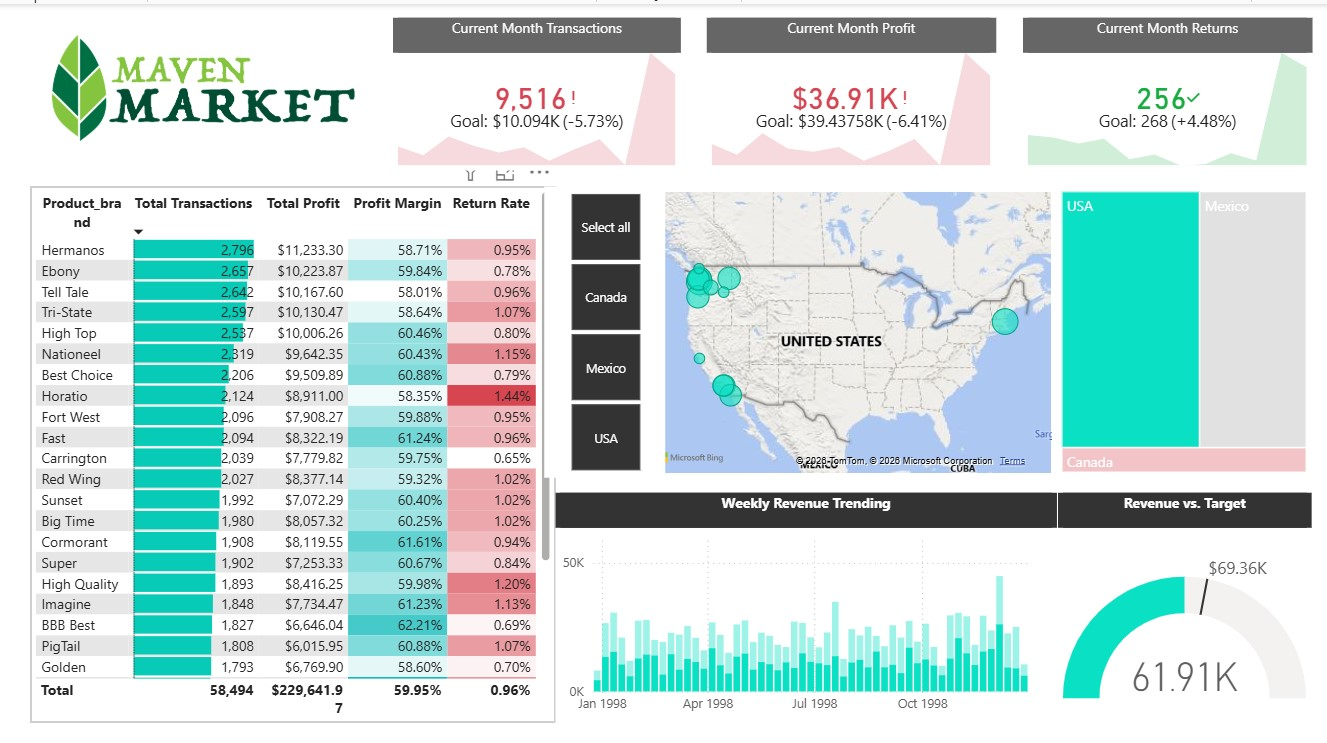

The page's visual inventory and layout, read from the dashboard file:
{"tool":"powerbi","page":{"name":"Topline Performance","canvas":[1280,720],"ordinal":0},"visuals":[{"type":"image","box":[43.1,13.2,304.4,134.2],"z":0},{"type":"pivotTable","fields":{"Rows":["Products.product_brand"],"Values":["Transaction_Data.Total Transactions","Transaction_Data.Total Profit","Transaction_Data.Profit Margin","Transaction_Data.Return Rate"]},"box":[31.2,175,492.6,514.2],"z":1000},{"type":"kpi","title":"Current Month Transactions","fields":{"Goal":["Transaction_Data.Last Month Transactions"],"Indicator":["Transaction_Data.Total Transactions"],"TrendLine":["Calendar.Start of Month"]},"box":[378.3,12.8,275.9,146.5],"z":2000},{"type":"kpi","title":"Current Month Profit","fields":{"Goal":["Transaction_Data.Last Month Profit"],"Indicator":["Transaction_Data.Total Profit"],"TrendLine":["Calendar.Start of Month"]},"box":[679.8,12.8,277.3,146.5],"z":2001},{"type":"kpi","title":"Current Month Returns","fields":{"Goal":["Return_Data.Last Month Returns"],"Indicator":["Return_Data.Total Returns"],"TrendLine":["Calendar.Start of Month"]},"box":[982.8,12.8,277.3,146.5],"z":2002},{"type":"map","fields":{"Category":["Stores.store_city"],"Size":["Transaction_Data.Total Transactions"]},"box":[622,175,393.1,279.3],"z":2003},{"type":"slicer","fields":{"Values":["Stores.store_country"]},"box":[523.7,175,116.3,279.3],"z":2004},{"type":"treemap","fields":{"Group":["Stores.store_country","Stores.store_state","Stores.store_city"],"Values":["Transaction_Data.Total Transactions"]},"box":[1015.1,175,244.5,279.3],"z":2005},{"type":"columnChart","title":"Weekly Revenue Trending","fields":{"Category":["Calendar.Start Of Week"],"Y":["Transaction_Data.Total Revenue"]},"box":[534.5,468.6,480.7,220.4],"z":2006},{"type":"gauge","title":" Revenue vs. Target","fields":{"TargetValue":["Transaction_Data.Revenue Target"],"Y":["Transaction_Data.Total Revenue"]},"box":[1016,469,243,220],"z":2007}]}

Visuals, with their boxes in screenshot pixels (x1, y1, x2, y2), scaled from the page's 1280x720 canvas onto the 1327x743 screenshot:
image: rect(45, 14, 360, 152)
pivotTable - Products.product_brand x Transaction_Data.Total Transactions: rect(32, 181, 543, 711)
"Current Month Transactions" kpi: rect(392, 13, 678, 164)
"Current Month Profit" kpi: rect(705, 13, 992, 164)
"Current Month Returns" kpi: rect(1019, 13, 1306, 164)
map - Stores.store_city x Transaction_Data.Total Transactions: rect(645, 181, 1052, 469)
slicer - Stores.store_country: rect(543, 181, 664, 469)
treemap - Stores.store_country x Stores.store_state: rect(1052, 181, 1306, 469)
"Weekly Revenue Trending" columnChart: rect(554, 484, 1052, 711)
" Revenue vs. Target" gauge: rect(1053, 484, 1305, 711)
